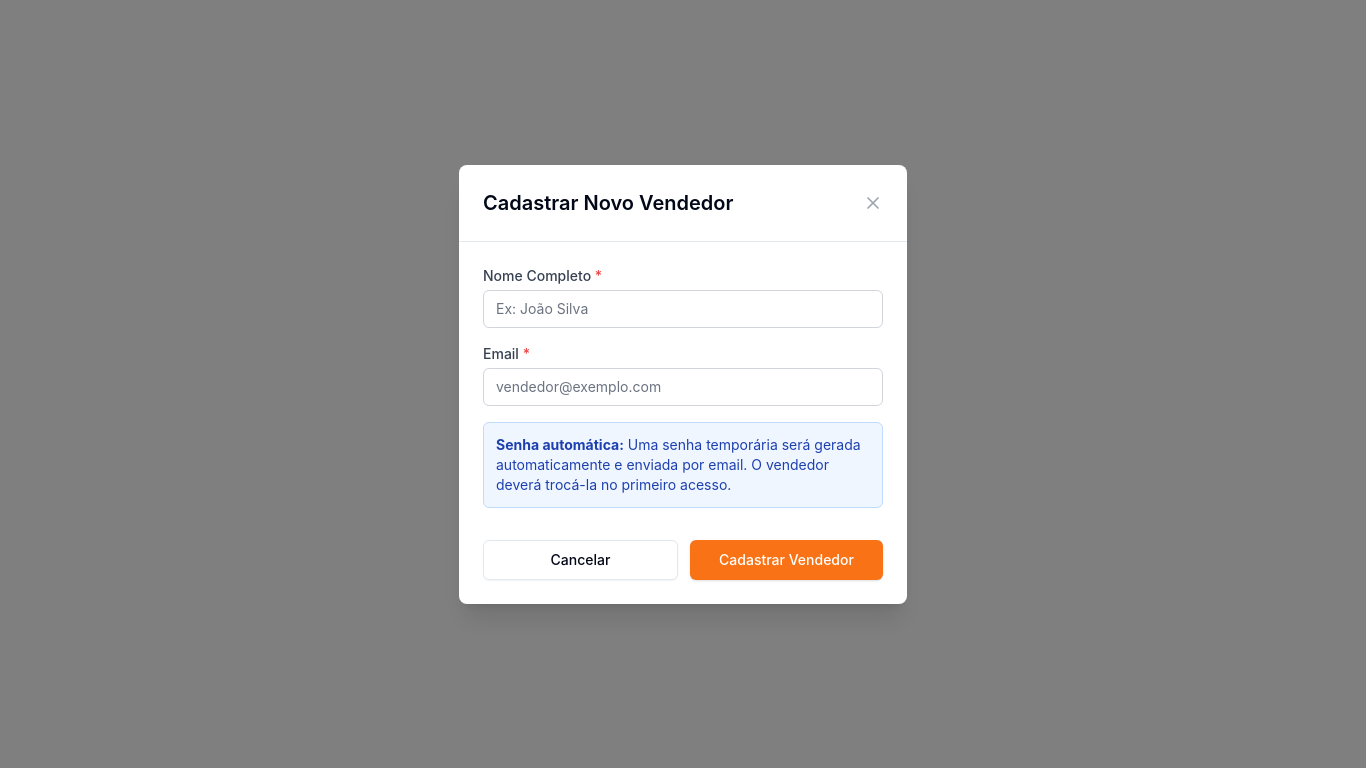
Scenario: VendedorForm › deve exibir erro quando email é inválido
The width and height of the screenshot is (1366, 768).
In the field labelled "Nome Completo *": point(683, 308) [483,290,883,328], type "João Silva"
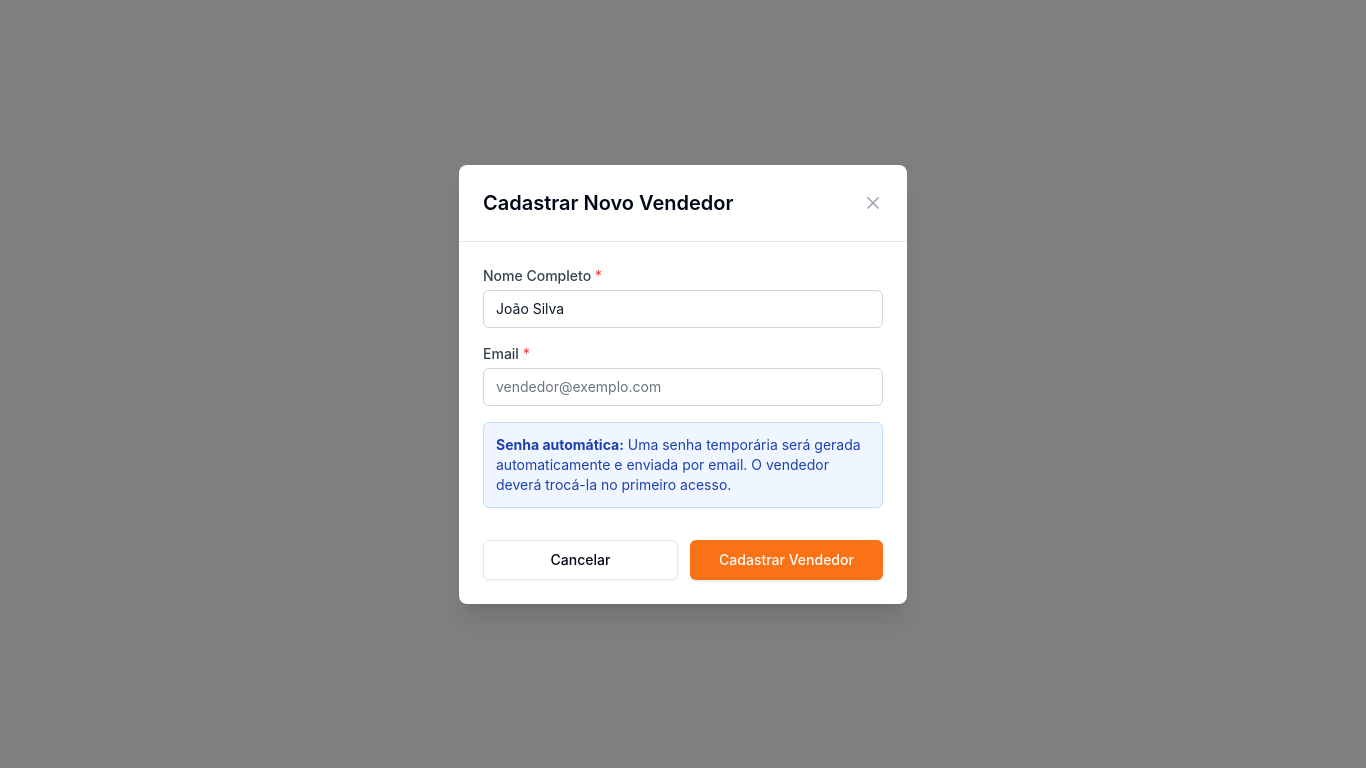
In the field labelled "Email *": point(683, 386) [483,368,883,406], type "email-invalido"
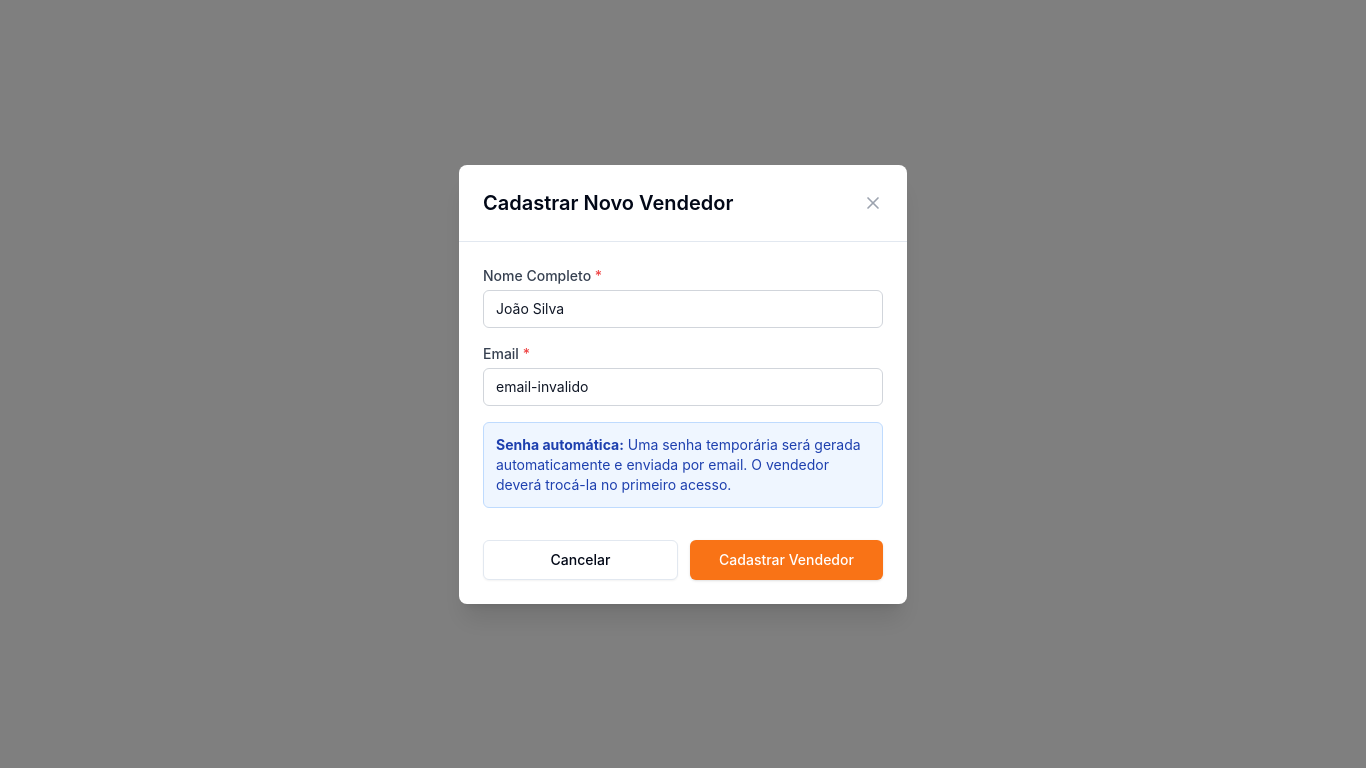
Submit the form named "Cadastrar Vendedor", box [459,242,907,604]
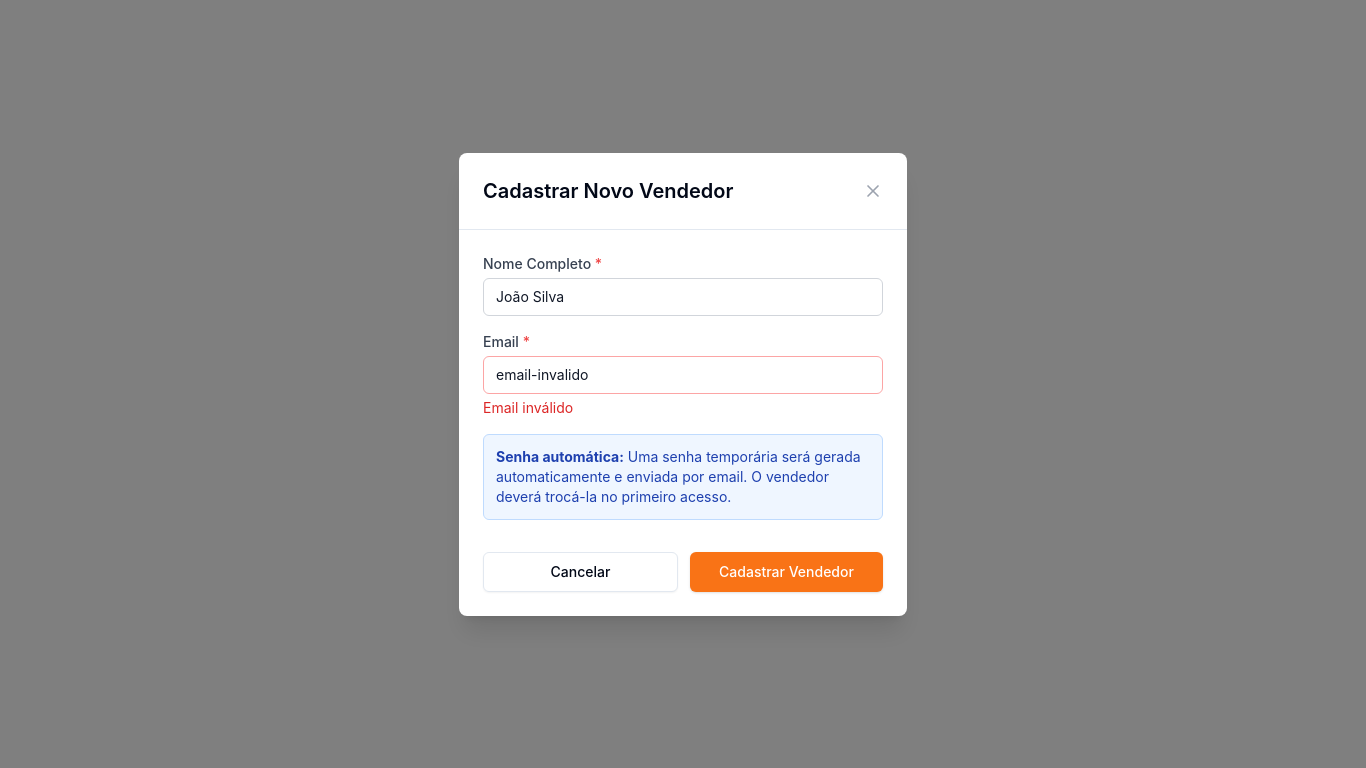
Expected: the text "Email inválido" is shown, [483,398,573,416]
